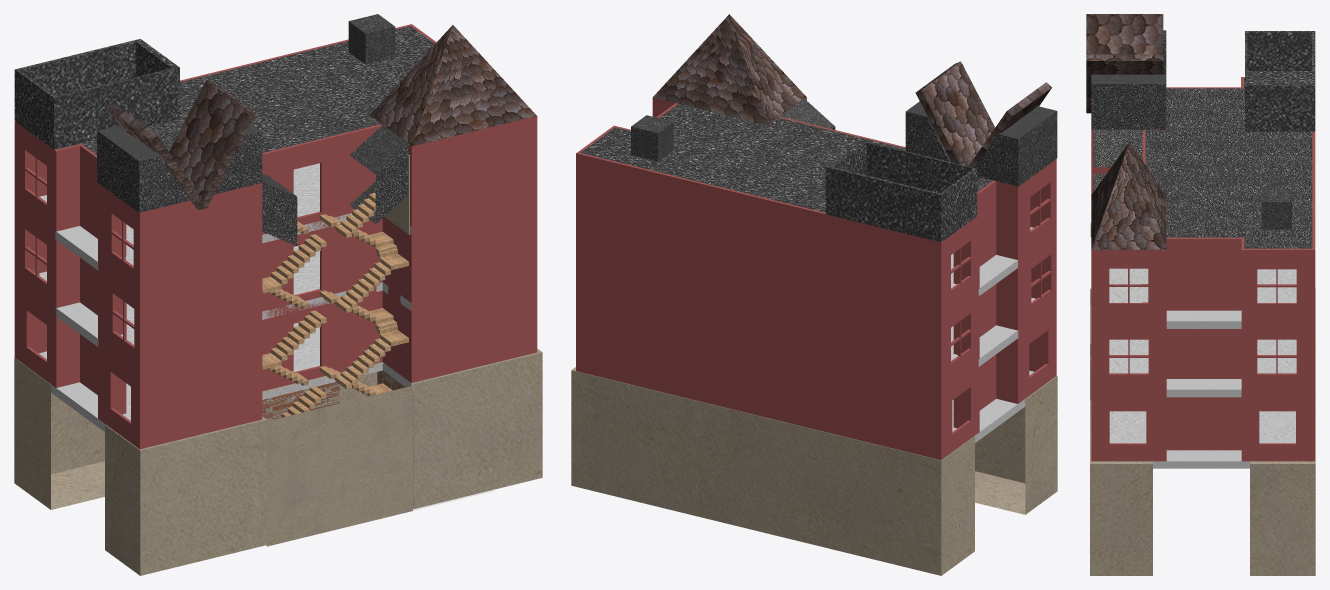
The model's file is exterior_sammy.fbx.
The picture shows the model from 3 angles, left to right: view 1: azimuth 30°, elevation 25°; view 2: azimuth 150°, elevation 25°; view 3: azimuth 270°, elevation 25°; orthographic projection. The views are drawn at different scales.
Visible parts, largest first — view 1: exterior wall top, first floor wall, bottom floor, Base floor 4, Stairs, A_BRIDGE, Object_138; view 2: exterior wall top, bottom floor, first floor wall, Base floor 4, A_BRIDGE; view 3: exterior wall top, Base floor 4, first floor wall, bottom floor, A_BRIDGE.
Boxes of the visible parts, x1=… form: exterior wall top: x1=14, y1=24, x2=537, y2=449; first floor wall: x1=14, y1=14, x2=536, y2=546; bottom floor: x1=14, y1=349, x2=542, y2=575; Base floor 4: x1=15, y1=26, x2=536, y2=449; Stairs: x1=262, y1=188, x2=408, y2=417; A_BRIDGE: x1=107, y1=80, x2=255, y2=209; Object_138: x1=262, y1=382, x2=339, y2=420; exterior wall top: x1=576, y1=97, x2=1056, y2=459; bottom floor: x1=571, y1=367, x2=1057, y2=575; first floor wall: x1=631, y1=14, x2=1057, y2=242; Base floor 4: x1=577, y1=103, x2=1056, y2=460; A_BRIDGE: x1=915, y1=61, x2=1051, y2=167; exterior wall top: x1=1091, y1=77, x2=1315, y2=461; Base floor 4: x1=1091, y1=78, x2=1312, y2=468; first floor wall: x1=1091, y1=30, x2=1315, y2=249; bottom floor: x1=1090, y1=288, x2=1315, y2=575; A_BRIDGE: x1=1086, y1=14, x2=1163, y2=113.
Size of the model in its own units: 632 by 682 by 349.
18 materials, 16 textured.
